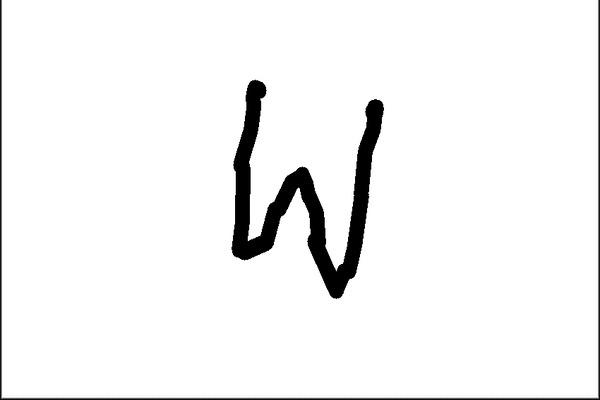w: (199, 52, 404, 313)
